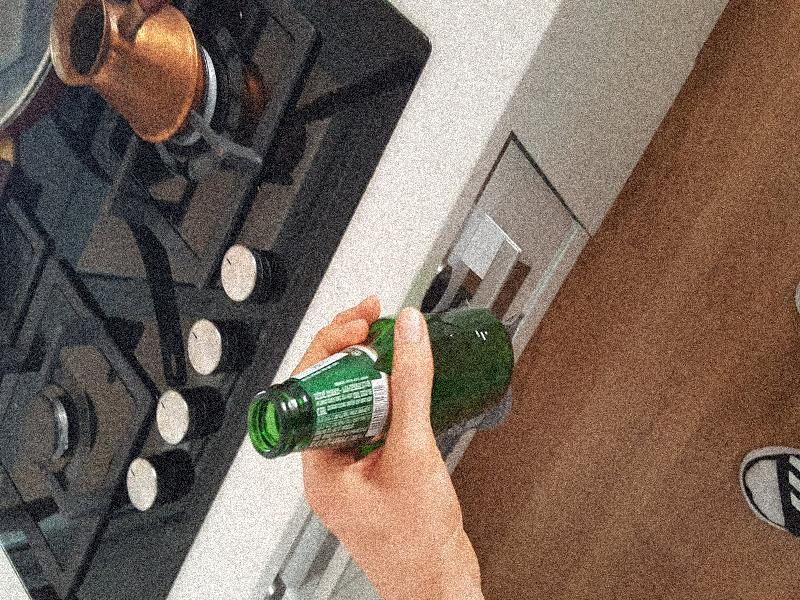Beer: (247, 309, 514, 457)
